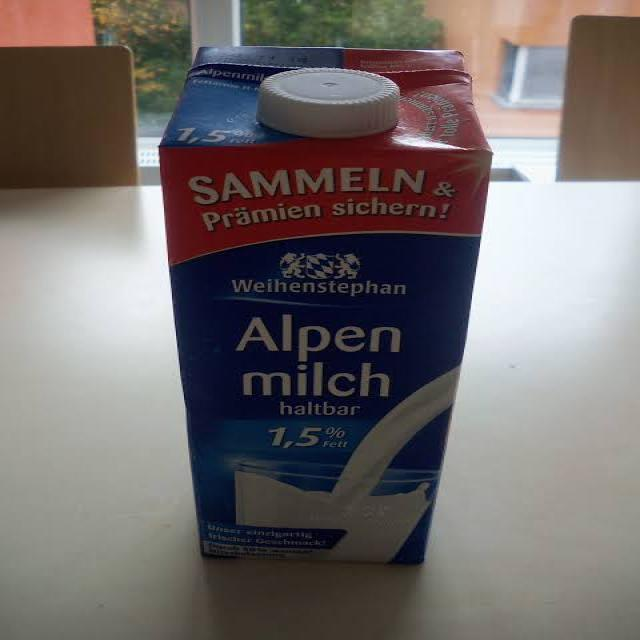drink carton: (159, 34, 499, 587)
